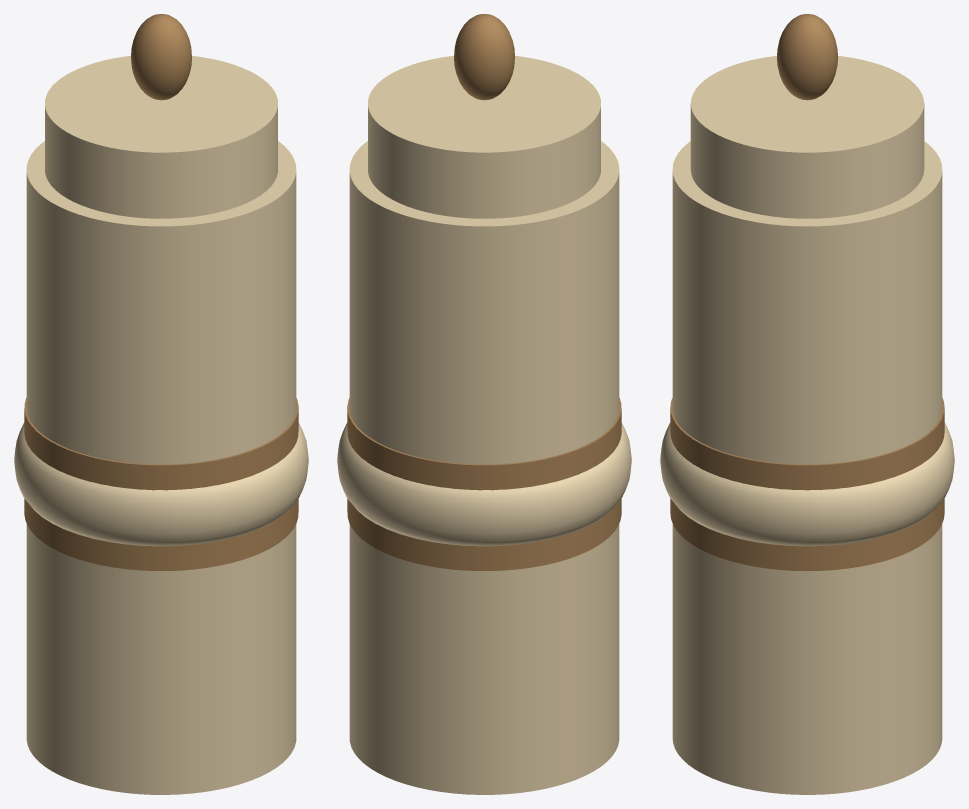
Rendered from cookie_jar.glb.
The picture shows the model from 3 angles, left to right: view 1: azimuth 30°, elevation 25°; view 2: azimuth 150°, elevation 25°; view 3: azimuth 270°, elevation 25°; orthographic projection.
Parts seen in each view (by area): view 1: Cylinder.003, Cylinder.005, Torus.001, Cylinder.004, Sphere.001; view 2: Cylinder.003, Cylinder.005, Torus.001, Cylinder.004, Sphere.001; view 3: Cylinder.003, Cylinder.005, Torus.001, Cylinder.004, Sphere.001.
Part boxes in pixels (x1,y1,x2,y2): Cylinder.003: (26,141,296,794); Cylinder.005: (45,56,277,218); Torus.001: (14,423,308,546); Cylinder.004: (24,397,298,570); Sphere.001: (131,14,191,100); Cylinder.003: (349,141,619,794); Cylinder.005: (368,56,600,218); Torus.001: (337,423,631,546); Cylinder.004: (347,397,621,570); Sphere.001: (454,14,514,100); Cylinder.003: (672,141,942,794); Cylinder.005: (690,56,924,218); Torus.001: (660,423,954,546); Cylinder.004: (670,398,944,571); Sphere.001: (777,14,837,100).
Size of the model in its own units: 4.04 by 10.92 by 4.04.
